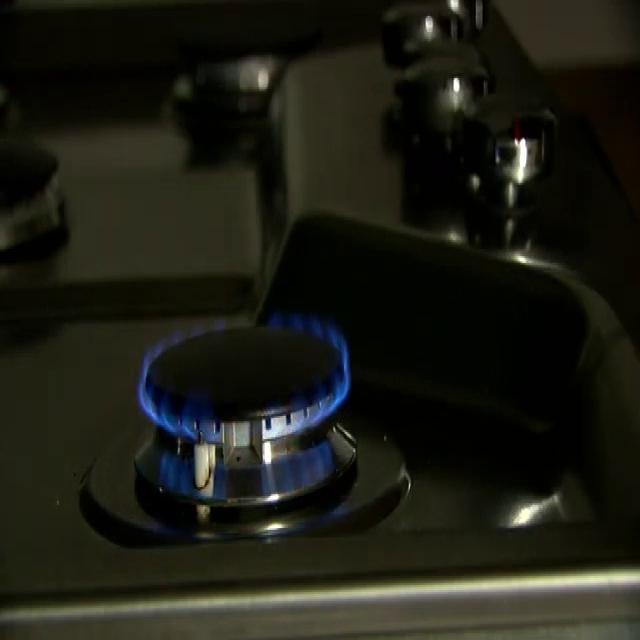fire: (117, 286, 368, 528)
